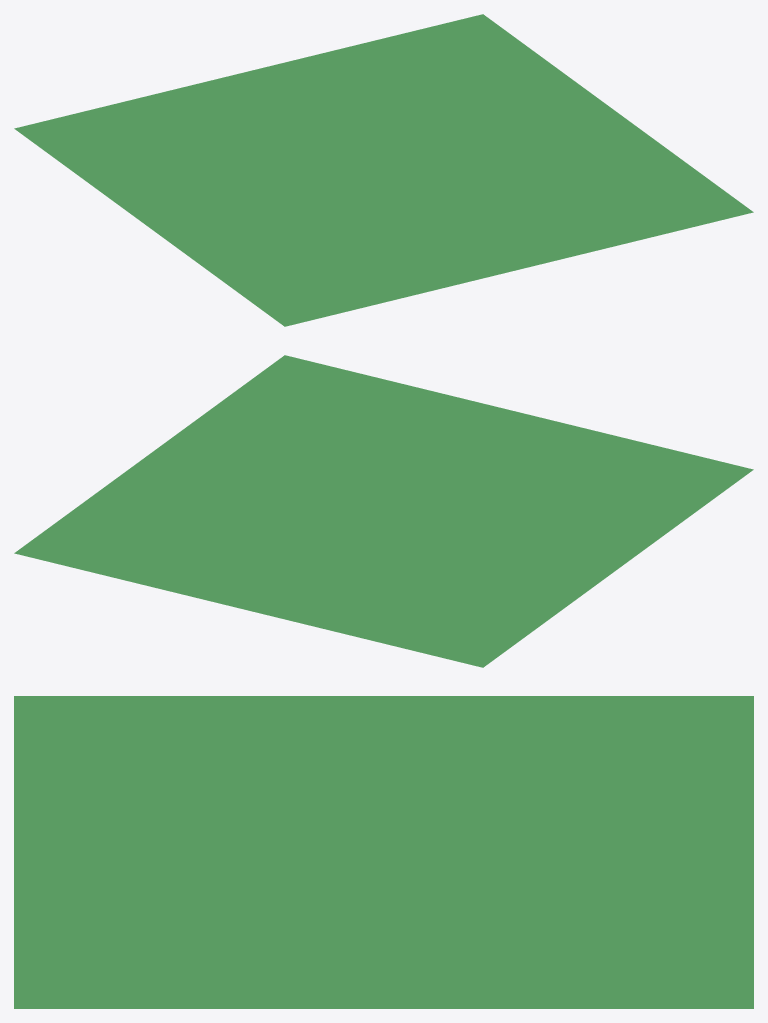
Rendered from swamp_floor.glb.
3 views of the same model, one above another, from view 1: azimuth 30°, elevation 25°; view 2: azimuth 150°, elevation 25°; view 3: azimuth 270°, elevation 25° (orthographic). The views are drawn at different scales.
Visible parts, largest first — view 1: ground; view 2: ground; view 3: ground.
Boxes of the visible parts, left/top/right/bottom form: ground: left=14, top=14, right=753, bottom=326; ground: left=14, top=355, right=753, bottom=667; ground: left=14, top=696, right=753, bottom=1008.
Bounding box in the file's own units: 2 × 0 × 2.
Materials: 1 (1 with a texture image).
